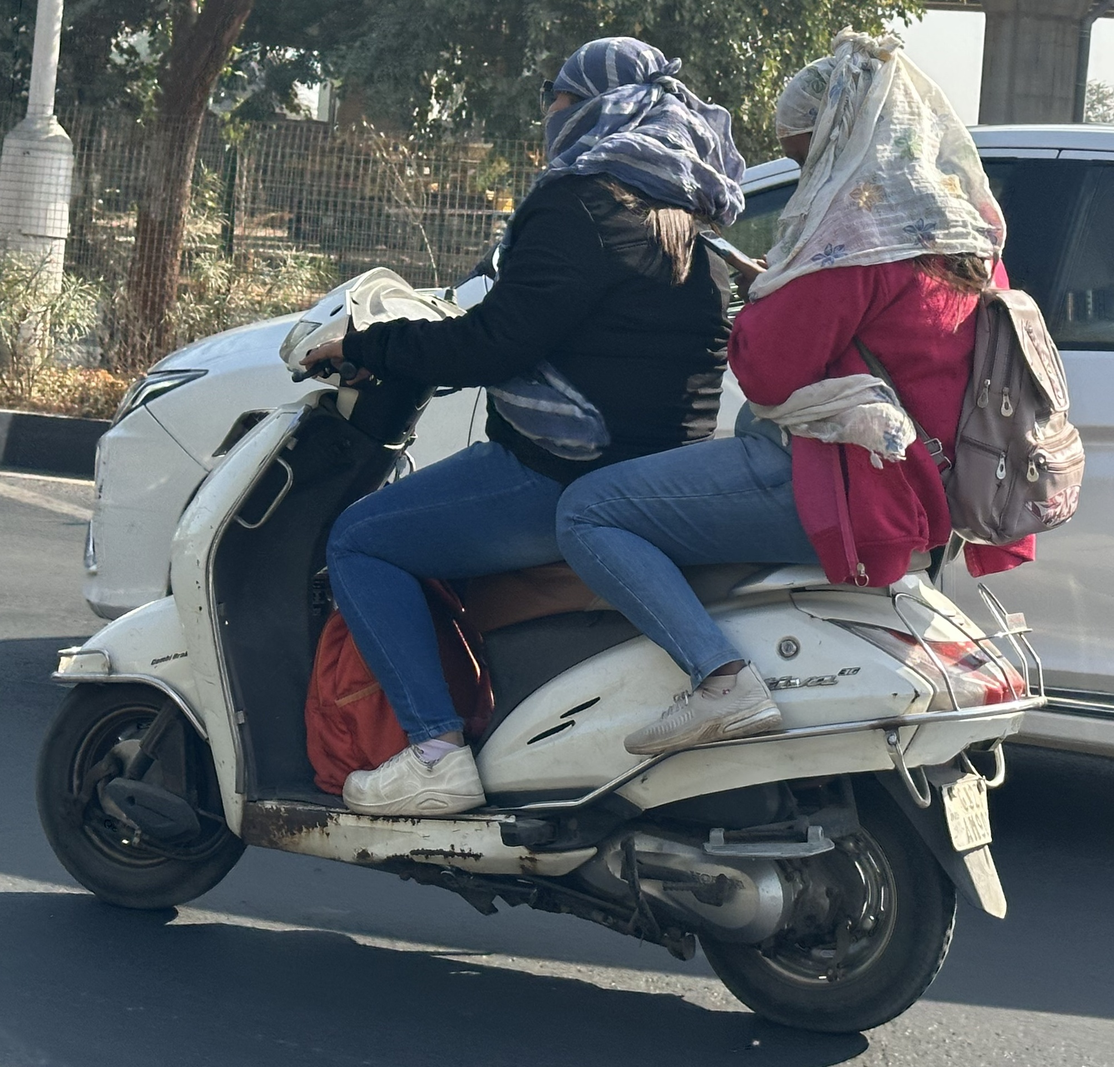BikeWithRider: (16, 18, 1101, 1048)
NoHelmet: (759, 27, 945, 196), (527, 27, 701, 180)
